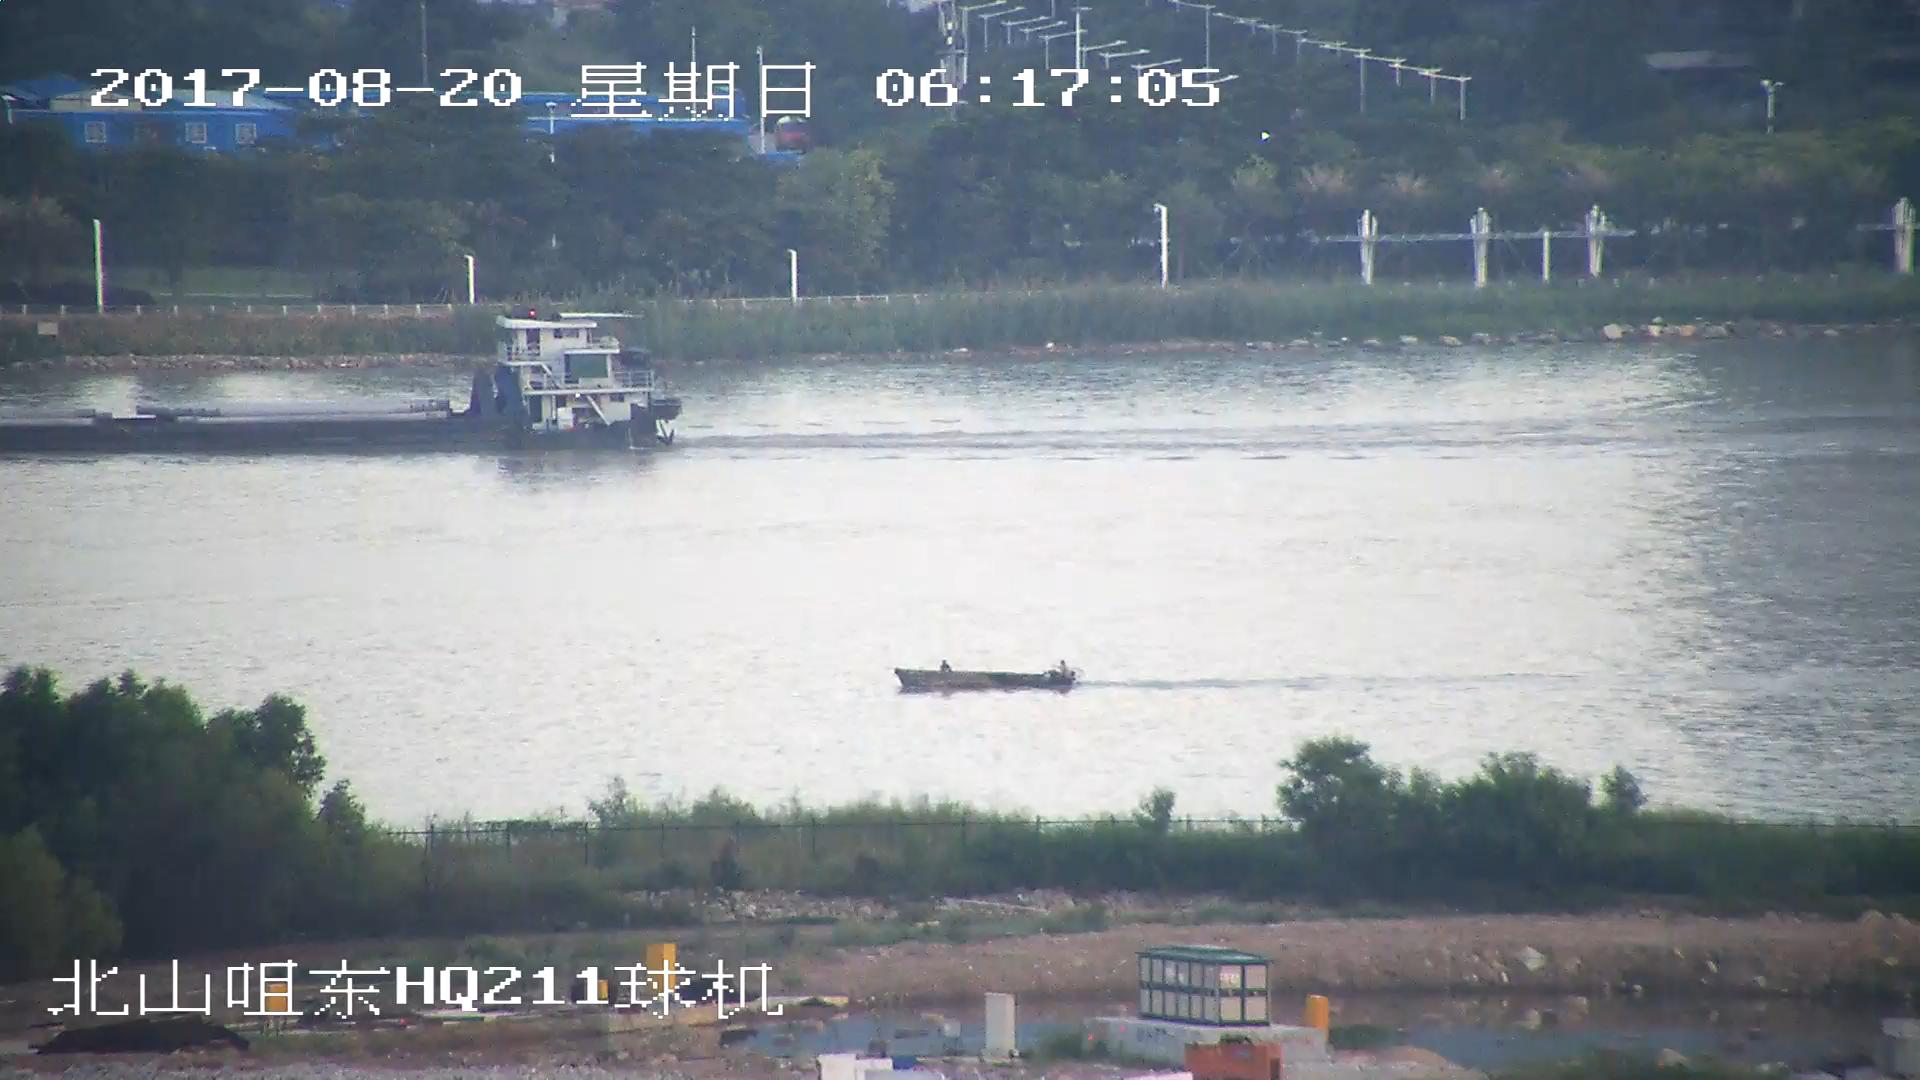bulk cargo carrier: (1, 316, 681, 449)
fishing boat: (894, 664, 1077, 692)
